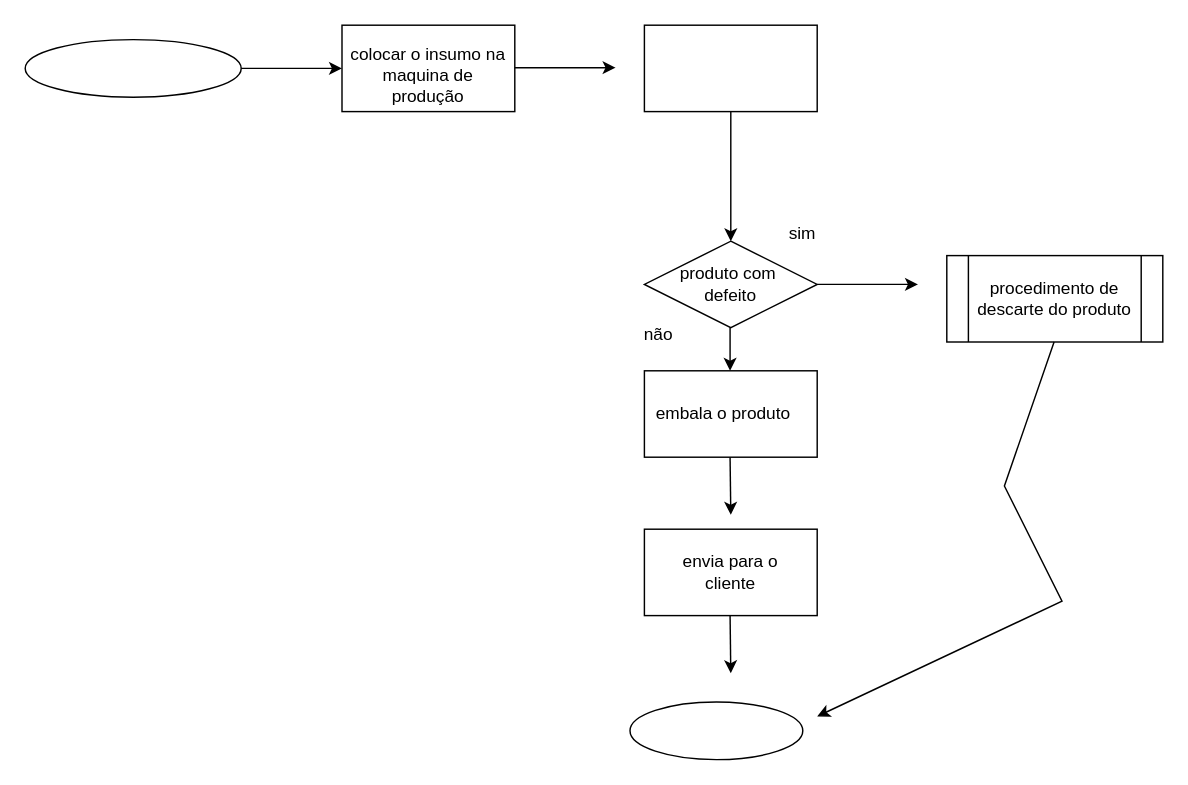
This 1188x785 diagram has some shape labels left out. Each missing label, with the box of its shape:
fim: (629, 701, 803, 760)
inicia a operação da maquina e a produção do produto: (643, 24, 817, 112)
inicio: (24, 38, 241, 97)
